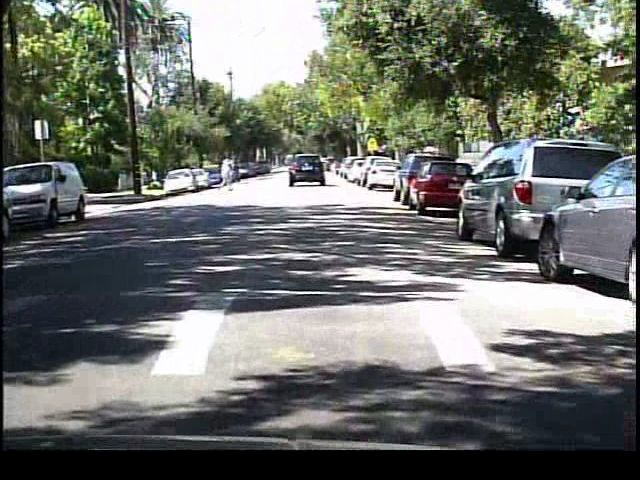person: (216, 153, 237, 194)
